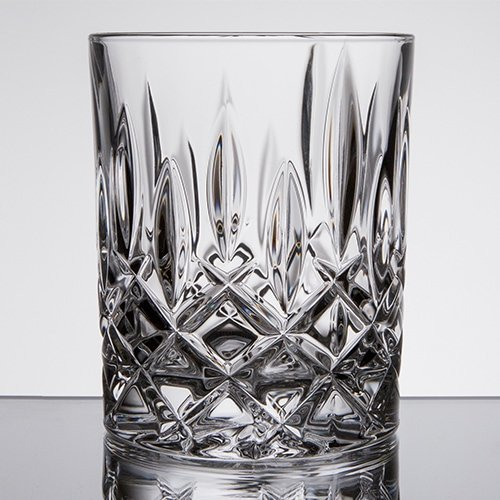glass: (87, 35, 415, 463)
